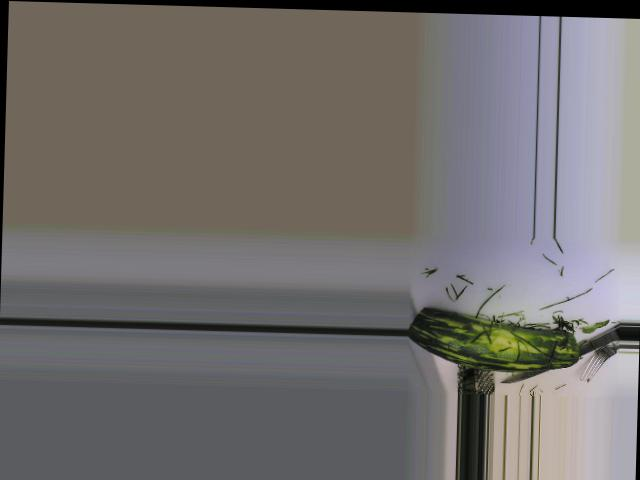cucumber: (408, 306, 581, 373)
